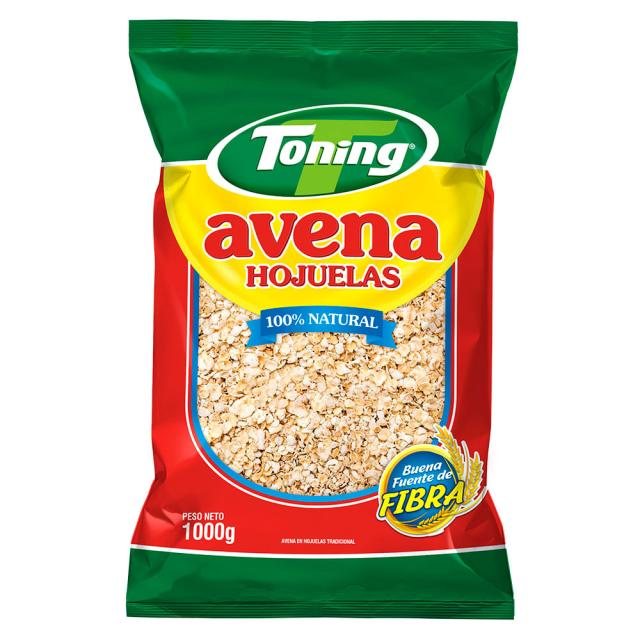avena: (198, 340, 447, 450)
